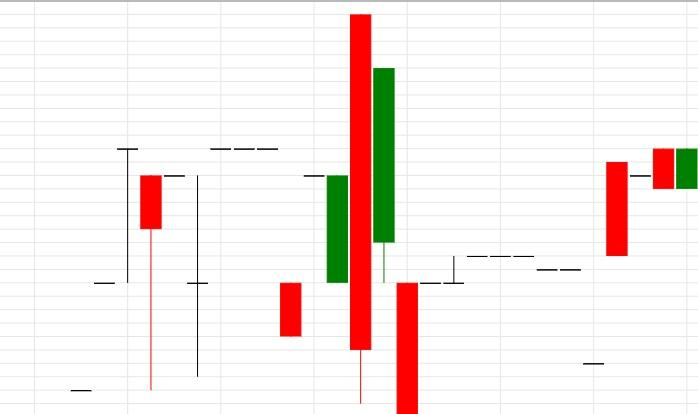bearish_engulfing_fall: (582, 148, 698, 365)
